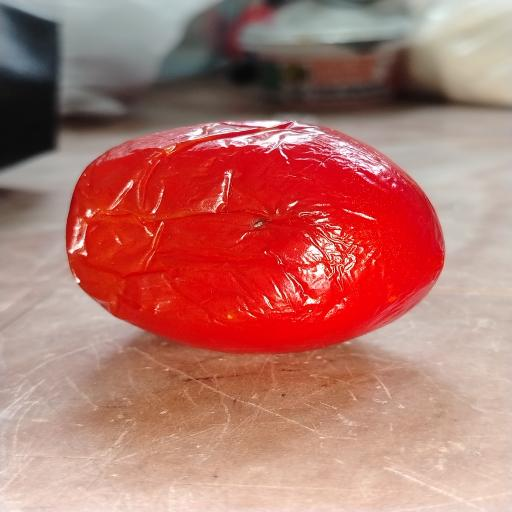spoiled: (67, 121, 444, 352)
